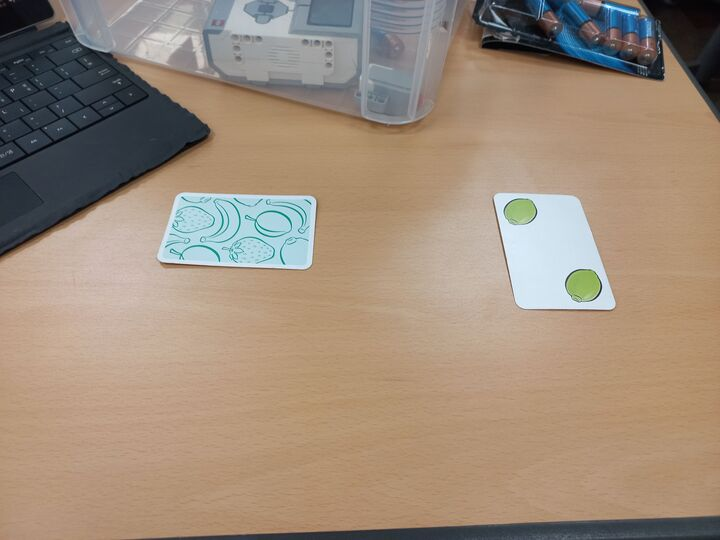lime2: (490, 191, 620, 313)
